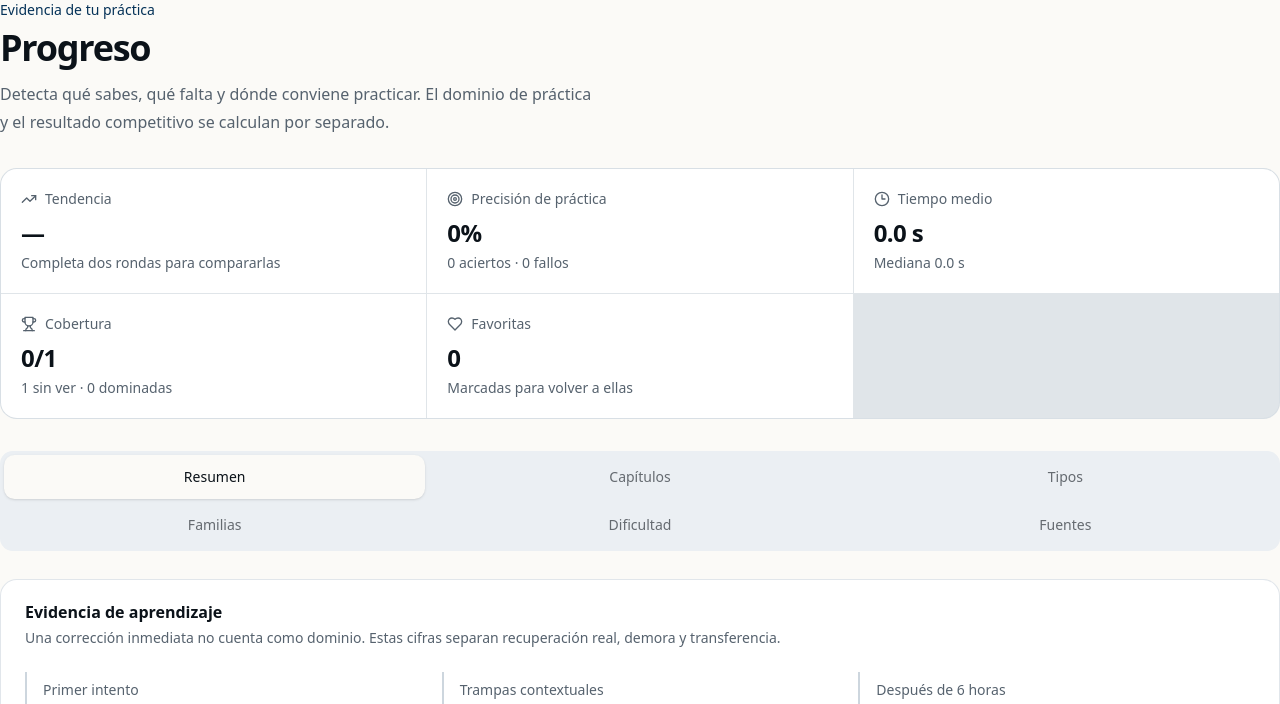
Test: vistas de progreso y revisión › mantiene las seis vistas estadísticas y sus encabezados accesibles
The image size is (1280, 704).
Click the tab "Capítulos": point(640, 477) [429,455,851,499]
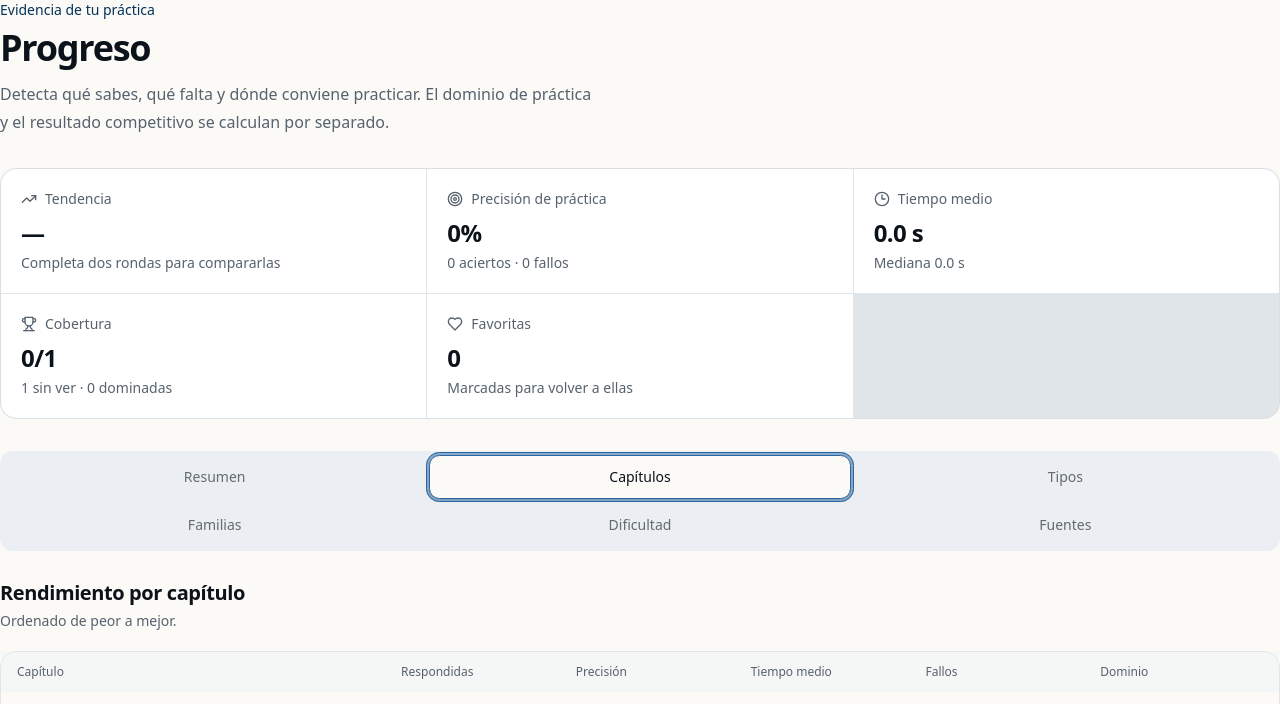
expect the heading "Rendimiento por capítulo" is shown: met, box [0,579,245,607]
Click the tab "Tipos": point(1065, 477) [855,455,1276,499]
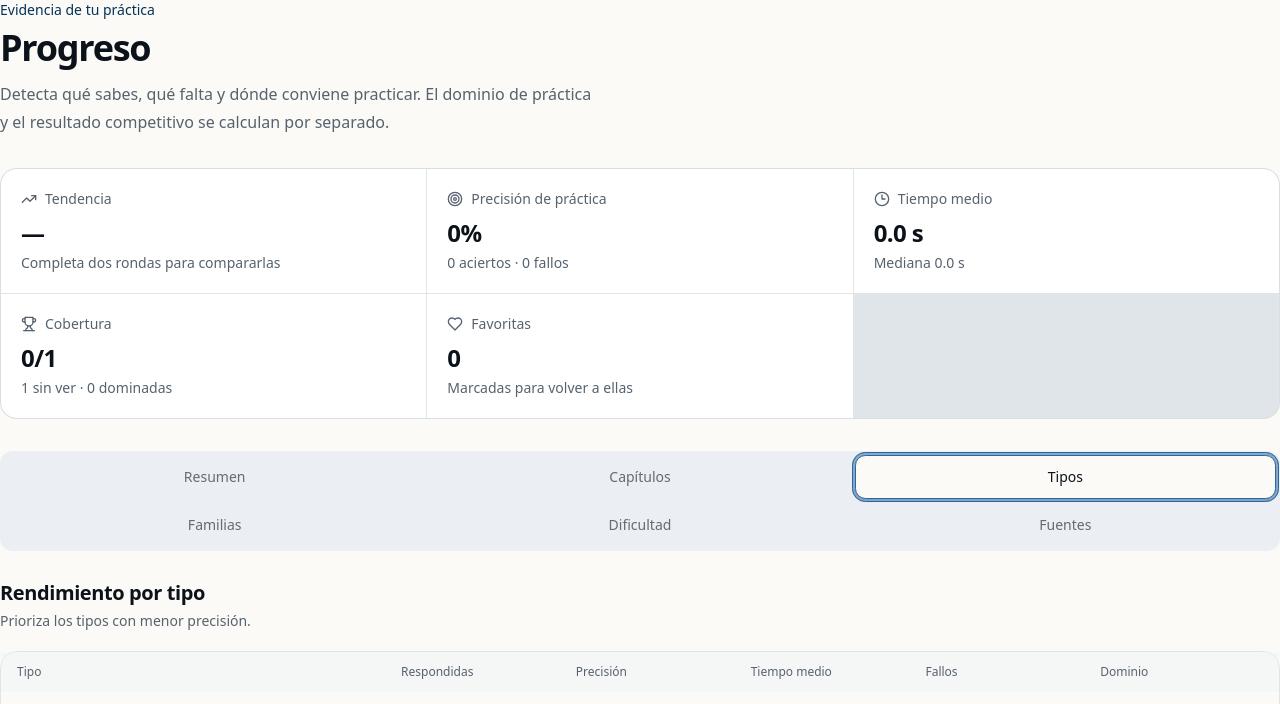
expect the heading "Rendimiento por tipo" is shown: met, box [0,579,205,606]
Click the tab "Familias": point(215, 525) [4,503,425,547]
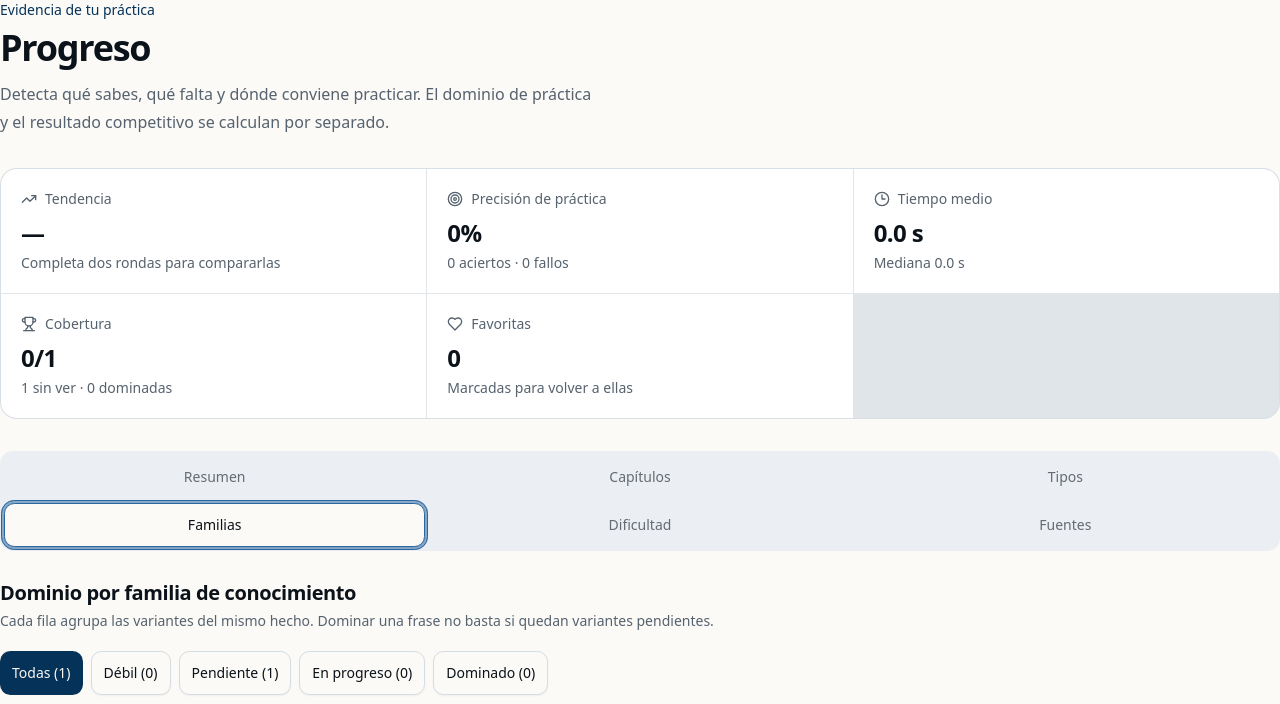
expect the heading "Dominio por familia de conocimiento" is shown: met, box [0,579,356,606]
Click the tab "Dificultad": point(640, 525) [429,503,851,547]
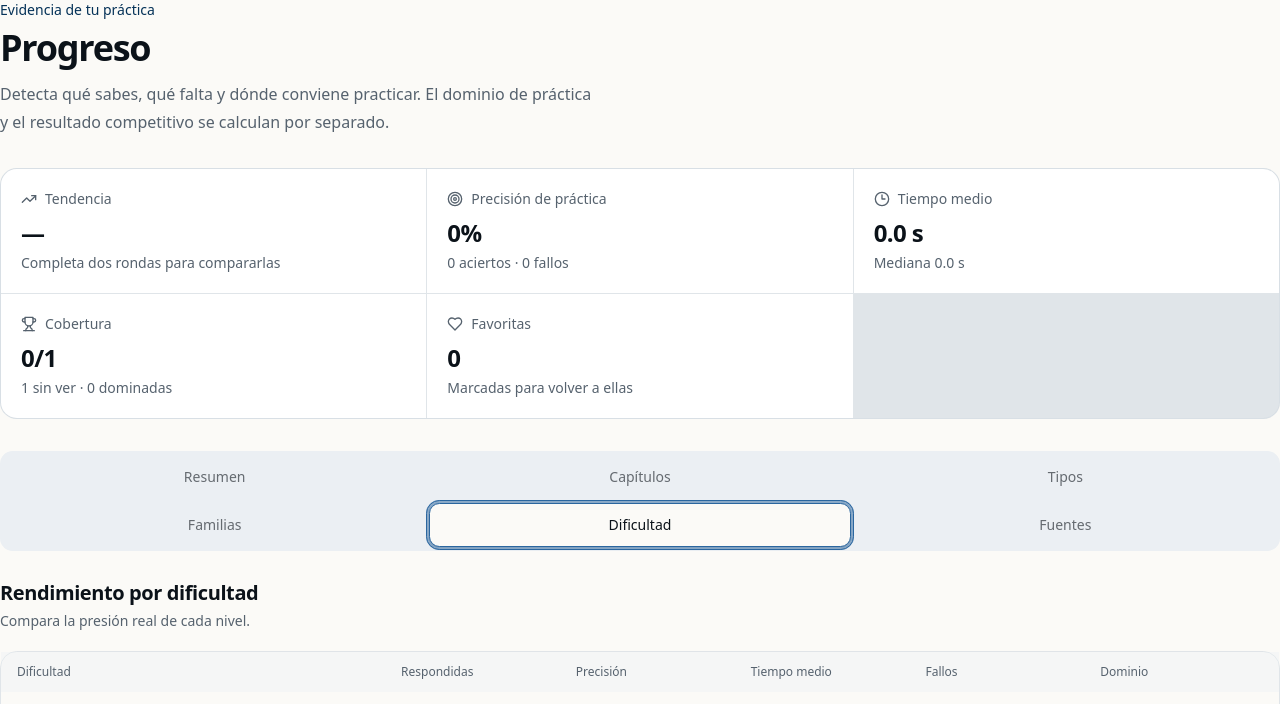
expect the heading "Rendimiento por dificultad" is shown: met, box [0,579,258,607]
Click the tab "Fuentes": point(1065, 525) [855,503,1276,547]
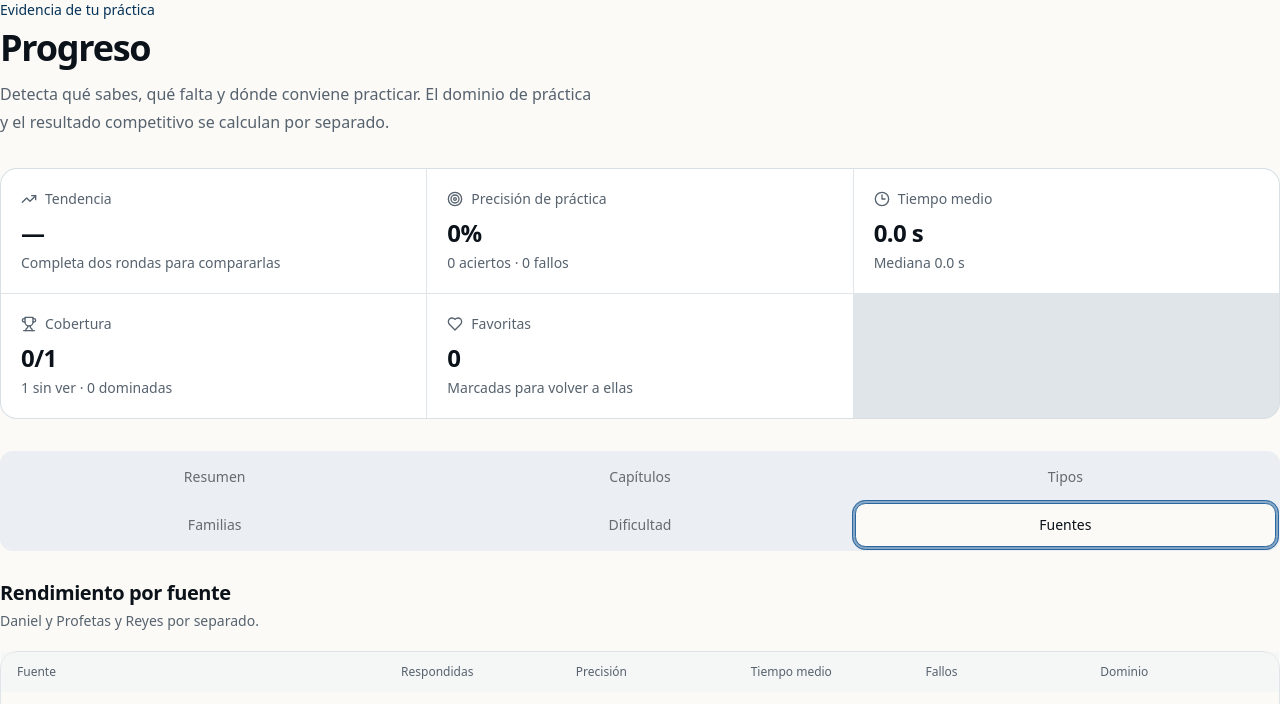
expect the column heading "Fuente" is shown: met, box [17,663,56,680]
expect the heading "Rendimiento por fuente" is shown: met, box [0,579,259,607]
